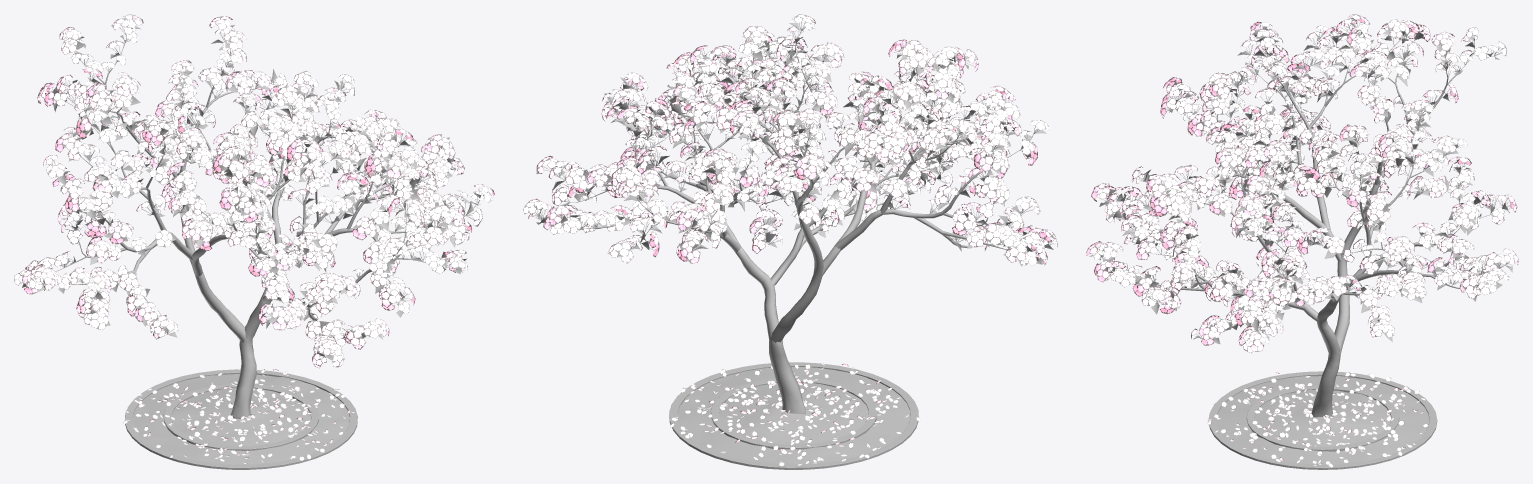
The model's file is springTree.fbx.
3 renders of one model, left to right at view 1: azimuth 30°, elevation 25°; view 2: azimuth 150°, elevation 25°; view 3: azimuth 270°, elevation 25°, orthographic. The views are drawn at different scales.
Parts seen in each view (by area): view 1: springTreeCrown_flowers, springGround, springTreeCrown_leaves, springTree, springTreeCrown_flowersOnGround; view 2: springTreeCrown_flowers, springGround, springTree, springTreeCrown_leaves, springTreeCrown_flowersOnGround; view 3: springTreeCrown_flowers, springGround, springTreeCrown_leaves, springTree, springTreeCrown_flowersOnGround.
Part boxes in pixels (x1,y1,x2,y2): springTreeCrown_flowers: (14,14,494,368); springGround: (124,369,357,469); springTreeCrown_leaves: (22,25,481,359); springTree: (20,38,480,418); springTreeCrown_flowersOnGround: (123,369,355,463); springTreeCrown_flowers: (523,14,1057,265); springGround: (669,362,918,469); springTree: (536,29,1050,414); springTreeCrown_leaves: (534,22,1053,266); springTreeCrown_flowersOnGround: (670,363,920,466); springTreeCrown_flowers: (1086,14,1518,353); springGround: (1208,371,1437,469); springTreeCrown_leaves: (1089,23,1512,344); springTree: (1100,31,1507,417); springTreeCrown_flowersOnGround: (1207,372,1428,467).
Size of the model in its own units: 6.39 by 5.4 by 5.67.
